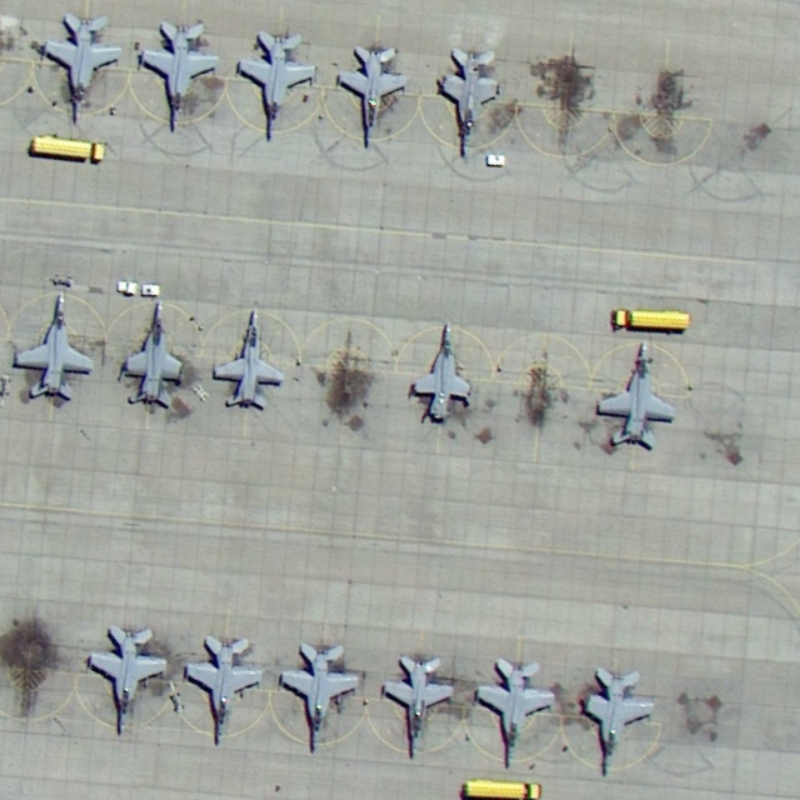A16: (178, 628, 266, 750), (36, 10, 126, 129), (138, 15, 225, 138), (229, 27, 318, 146), (83, 621, 172, 740), (593, 333, 680, 454), (468, 654, 556, 772), (276, 638, 362, 757), (576, 661, 657, 782), (11, 289, 97, 402), (373, 650, 457, 765), (205, 300, 288, 415), (334, 40, 413, 155), (429, 44, 504, 165), (114, 294, 187, 414), (408, 314, 475, 426)
